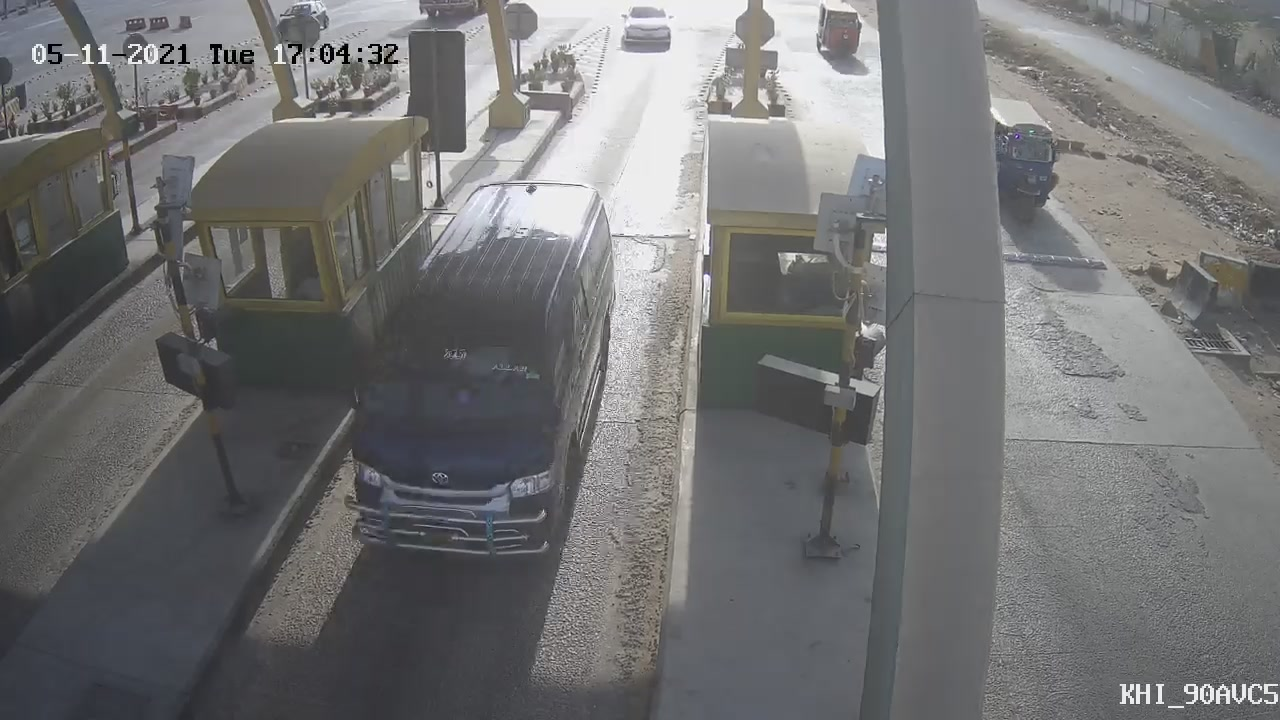F2: (317, 161, 633, 583)
